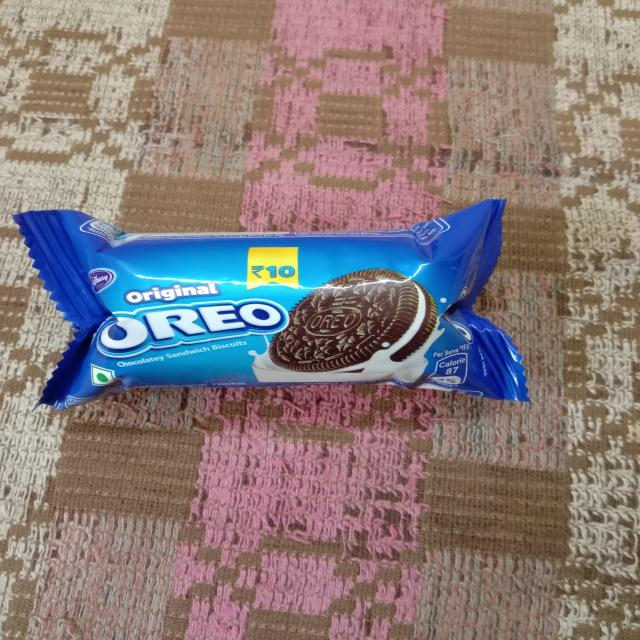oreo biscuit: (0, 206, 546, 407)
